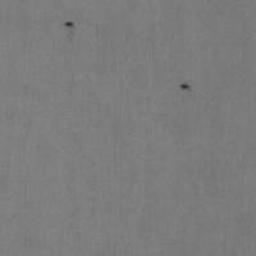Inclusion: (179, 82, 191, 91), (64, 21, 75, 29)
